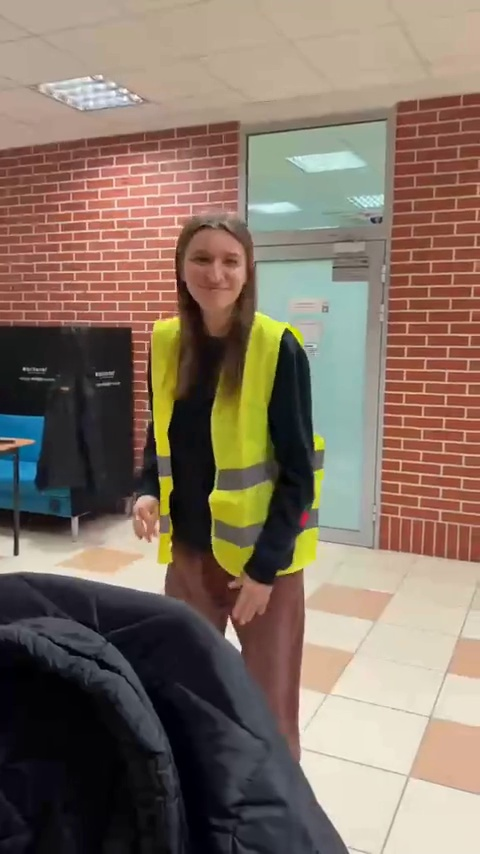vest: (145, 208, 329, 695)
